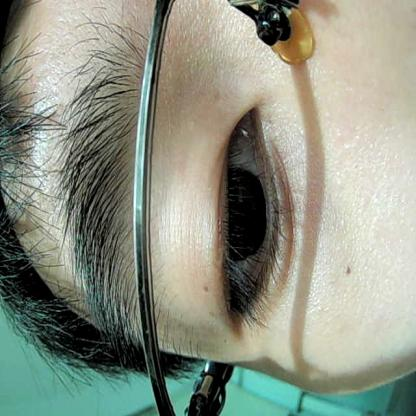Straight: (196, 86, 298, 337)
